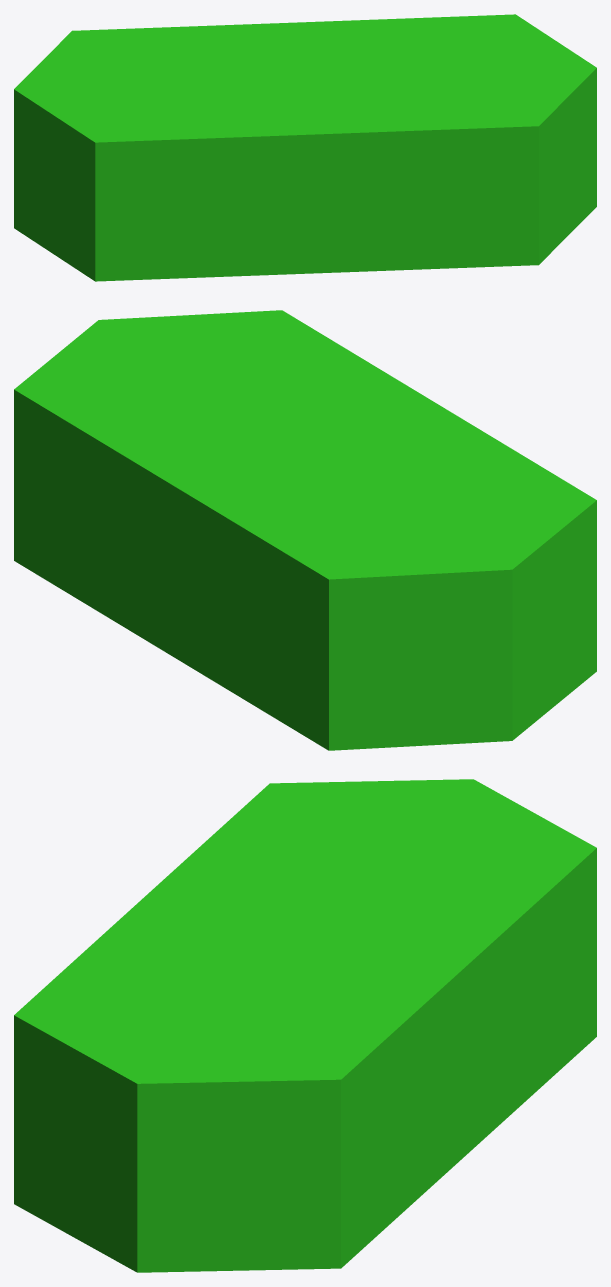
File: NormalContent.fbx
3 views of the same model, one above another, from view 1: azimuth 30°, elevation 25°; view 2: azimuth 150°, elevation 25°; view 3: azimuth 270°, elevation 25° (orthographic). The views are drawn at different scales.
Parts seen in each view (by area): view 1: Model; view 2: Model; view 3: Model.
Part boxes in pixels (left/top/right/bottom): Model: left=14, top=14, right=596, bottom=281; Model: left=14, top=310, right=596, bottom=750; Model: left=14, top=779, right=596, bottom=1272.
Size of what is drawn, in the model's own units: 1.07 by 0.308 by 0.8616.
